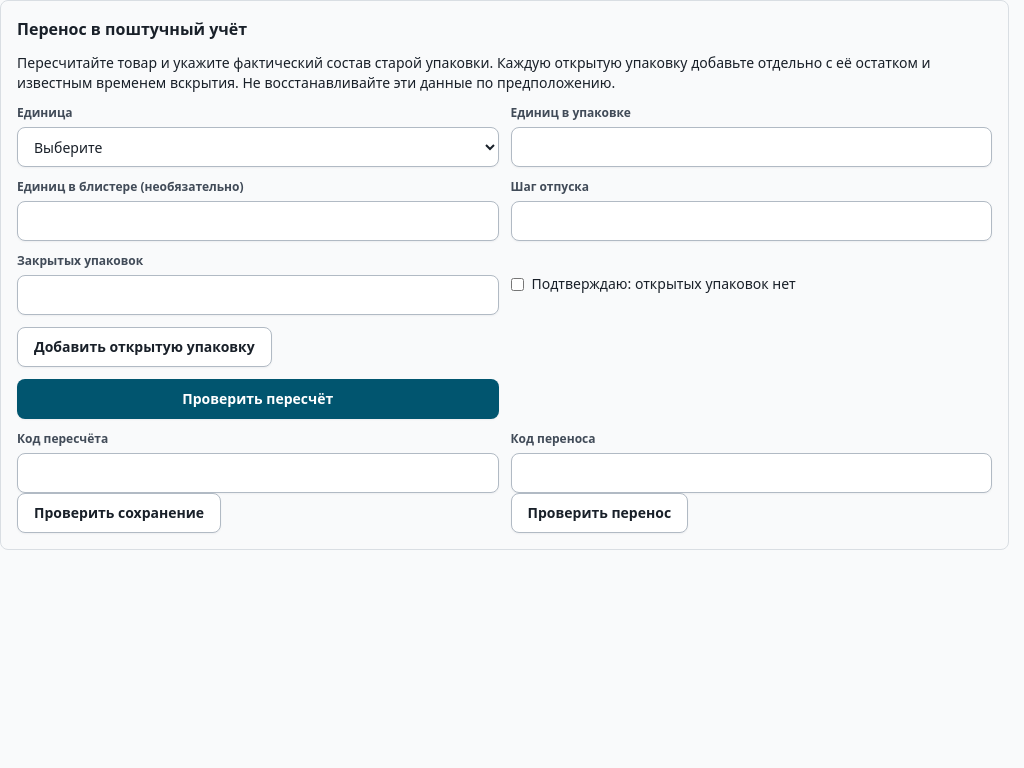
Test: explicit closed-pack legacy transition › rejects invalid physical input: Единиц в упаковке=1.5 before any request
The width and height of the screenshot is (1024, 768).
Select "Таблетка" in the dropdown labelled "Единица" at (258, 147), box [17,127,498,167]
Type "20" into the field labelled "Единиц в упаковке" at (751, 147), box [510,127,992,167]
Type "10" into the field labelled "Единиц в блистере (необязательно)" at (258, 221), box [17,201,498,241]
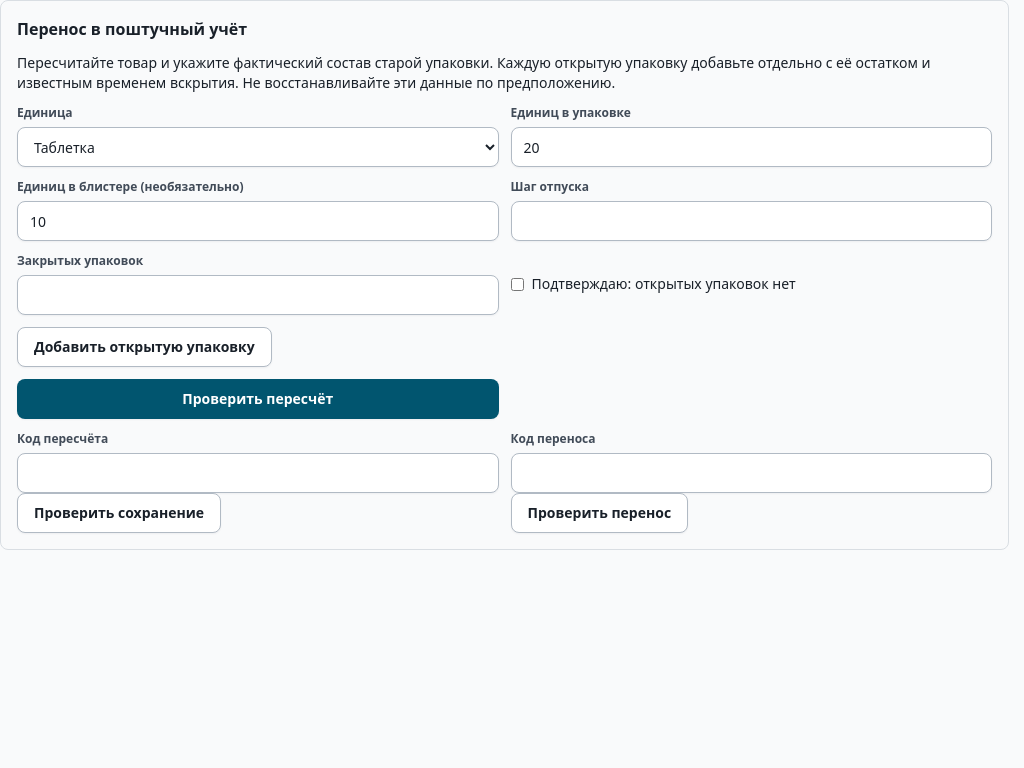
Type "1" into the field labelled "Шаг отпуска" at (751, 221), box [510,201,992,241]
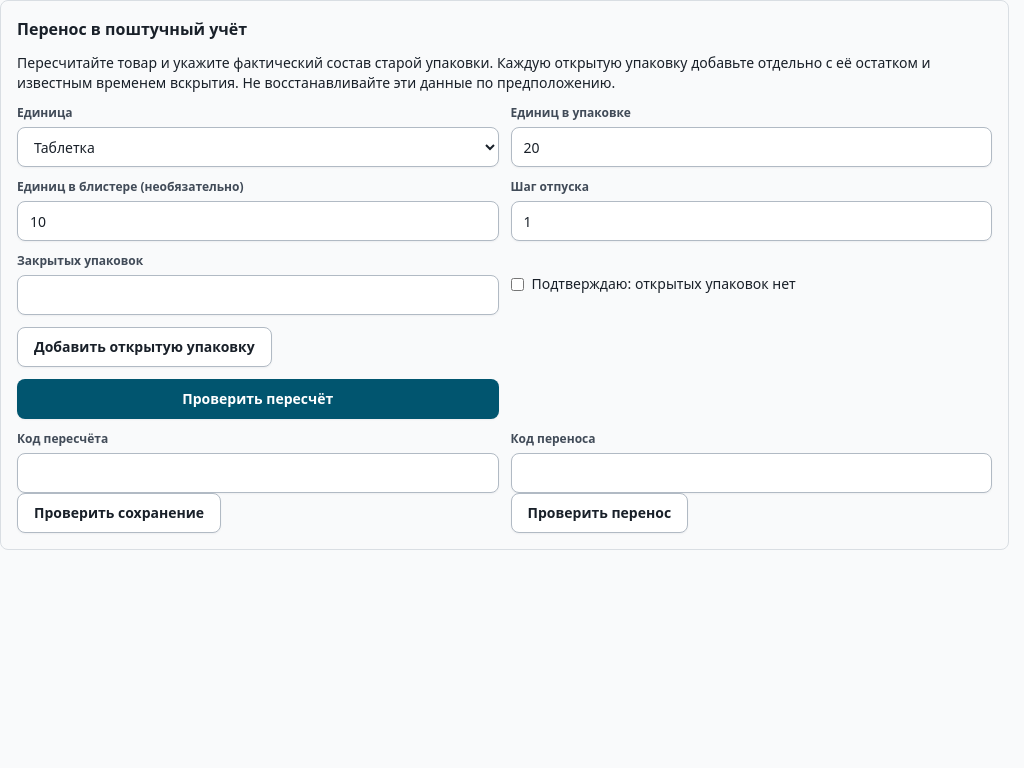
Type "4" into the field labelled "Закрытых упаковок" at (258, 295), box [17,275,498,315]
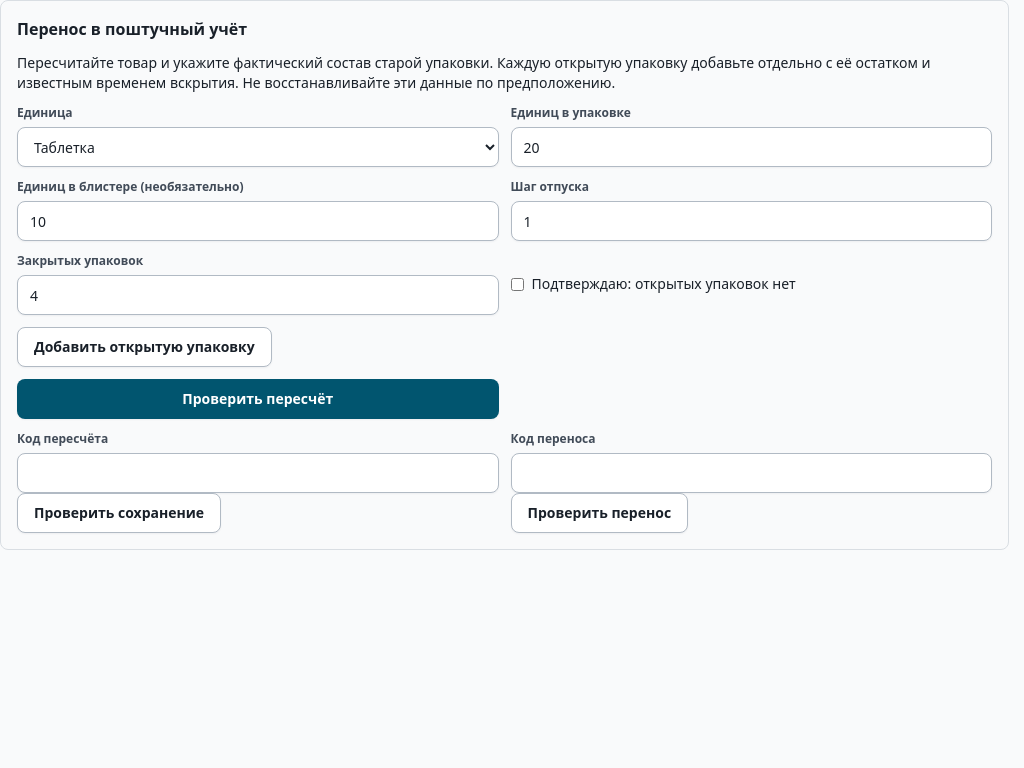
Click the checkbox labelled "Подтверждаю: открытых упаковок нет" at (517, 284), box [510,278,524,290]
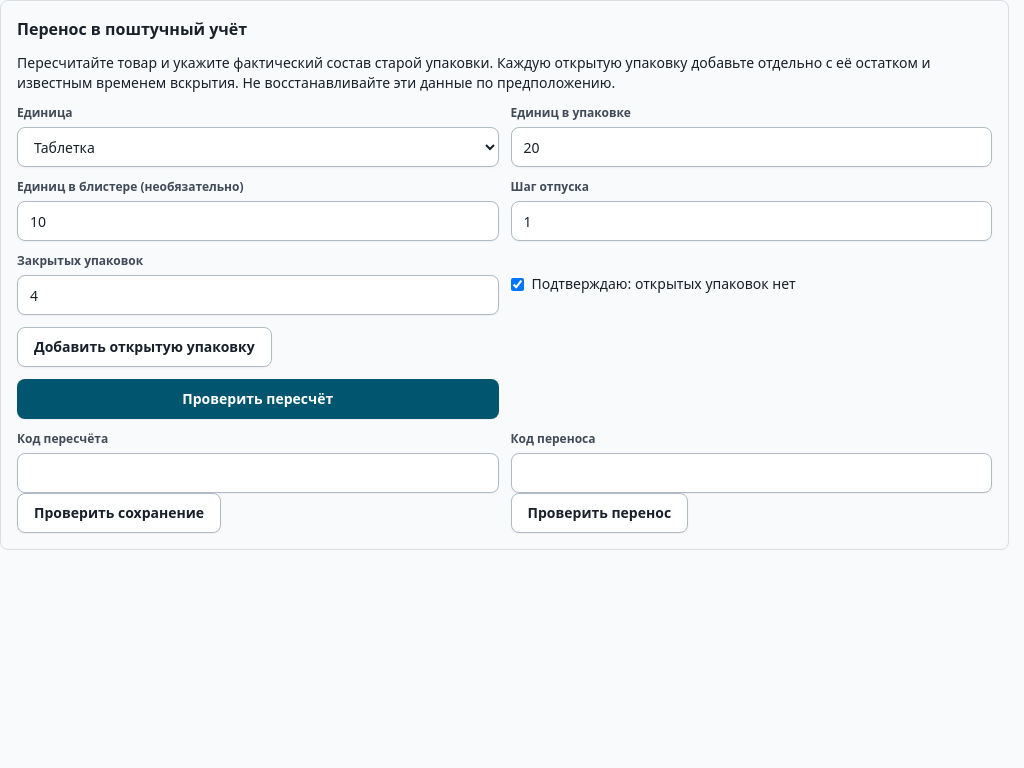
Replace the text in the field labelled "Единиц в упаковке" with "1.5" at (751, 147), box [510,127,992,167]
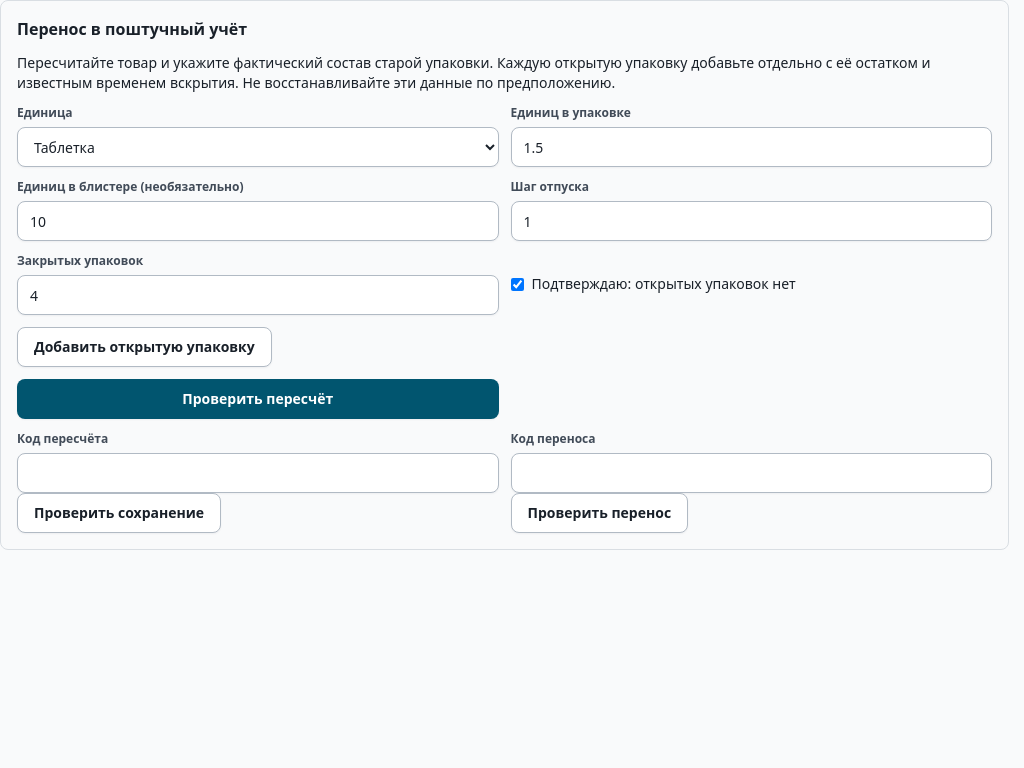
Click the button "Проверить пересчёт" at (258, 399), box [17,379,498,419]
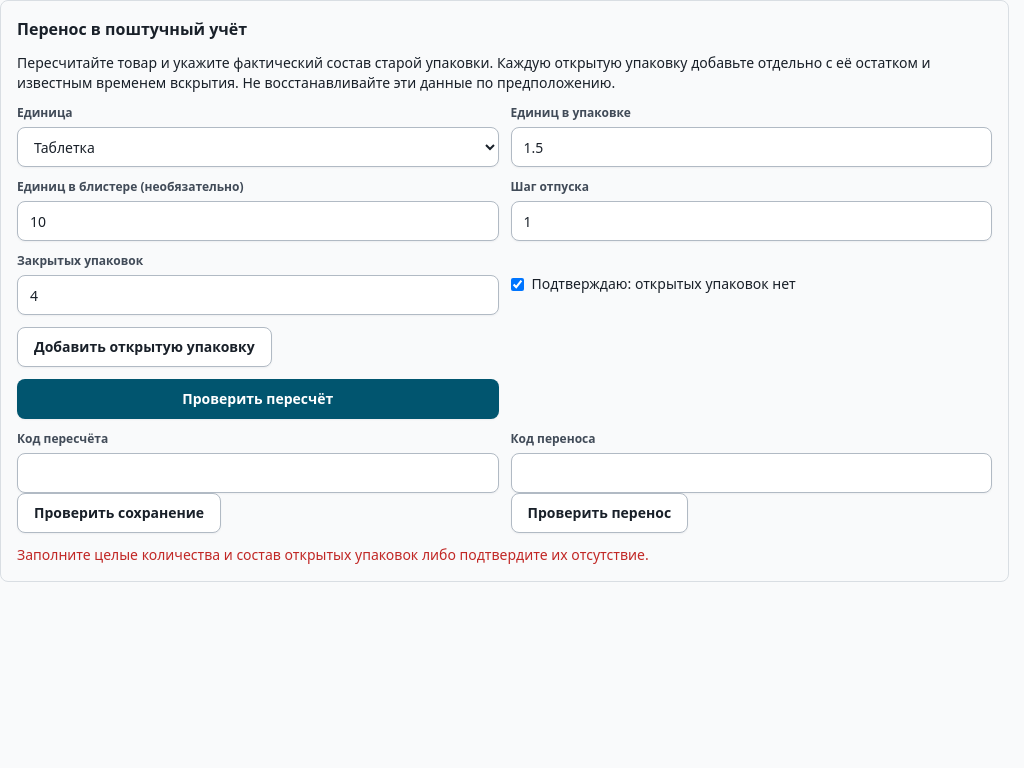
expect the message is shown: met, box [17,545,649,564]
